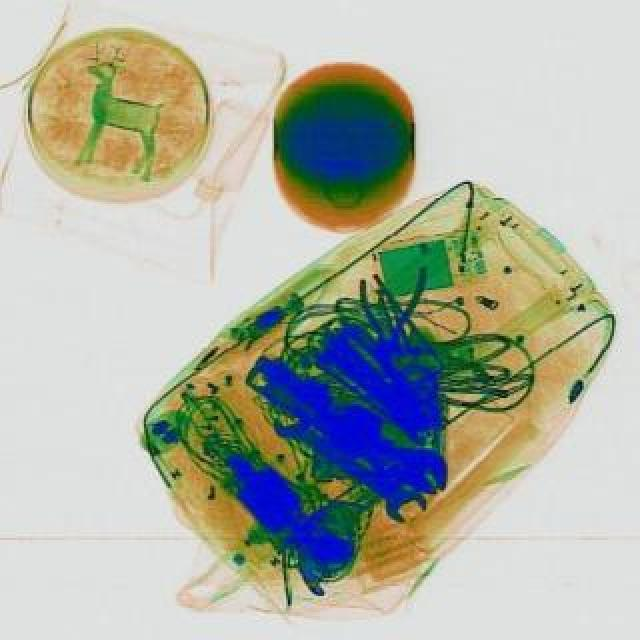scissors: (266, 402, 430, 534)
wrench: (356, 270, 430, 364)
